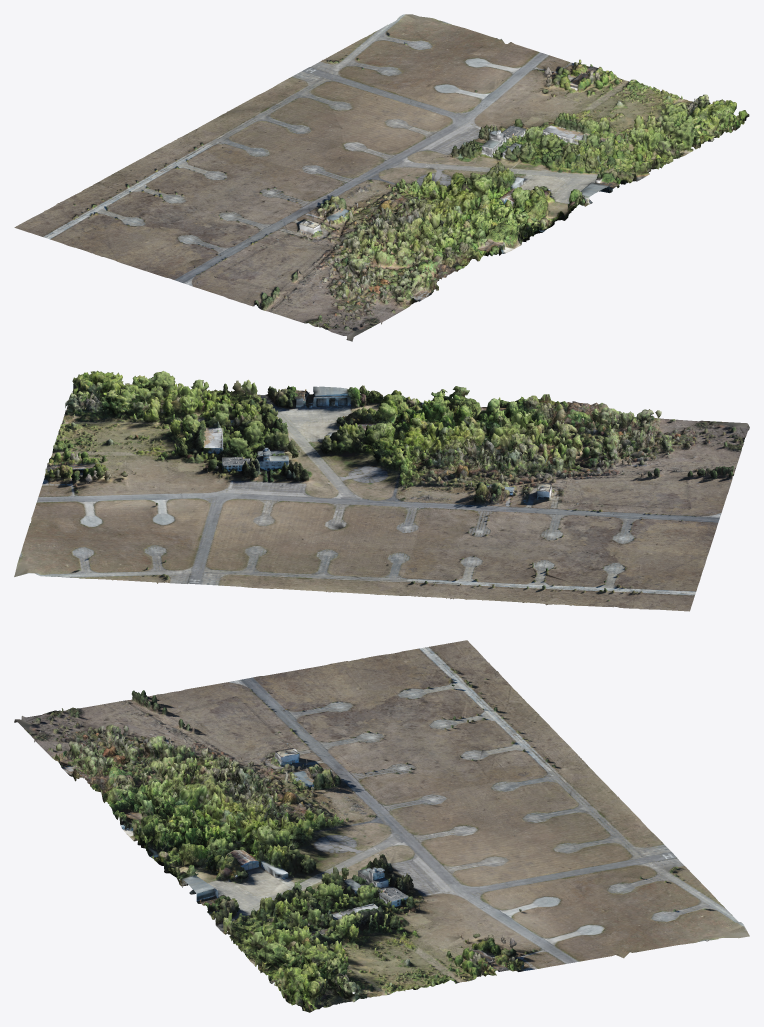
Rendered from LOW_TELJES_80k_2x4K.glb.
The picture shows the model from 3 angles, top to bottom: view 1: azimuth 30°, elevation 25°; view 2: azimuth 150°, elevation 25°; view 3: azimuth 270°, elevation 25°; orthographic projection. The views are drawn at different scales.
Visible parts, largest first — view 1: LOW_TELJES_80k; view 2: LOW_TELJES_80k; view 3: LOW_TELJES_80k.
Boxes of the visible parts, <box> form: LOW_TELJES_80k: <box>14,14,749,341</box>; LOW_TELJES_80k: <box>14,370,749,611</box>; LOW_TELJES_80k: <box>14,640,749,1012</box>.
Bounding box in the file's own units: 774 × 34.96 × 651.
2 materials, 2 textured.
